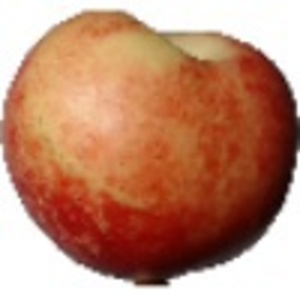nectarina: (1, 7, 300, 289)
